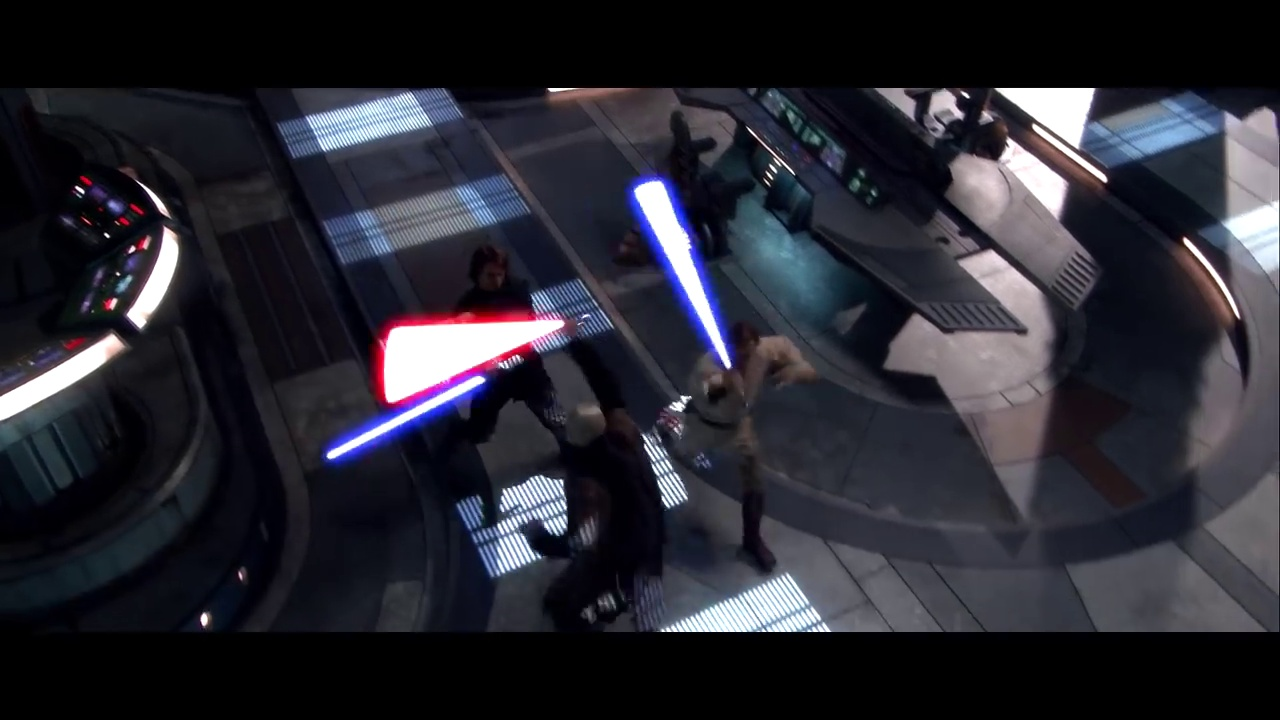lightsaber: (321, 288, 588, 464), (623, 171, 758, 411)
